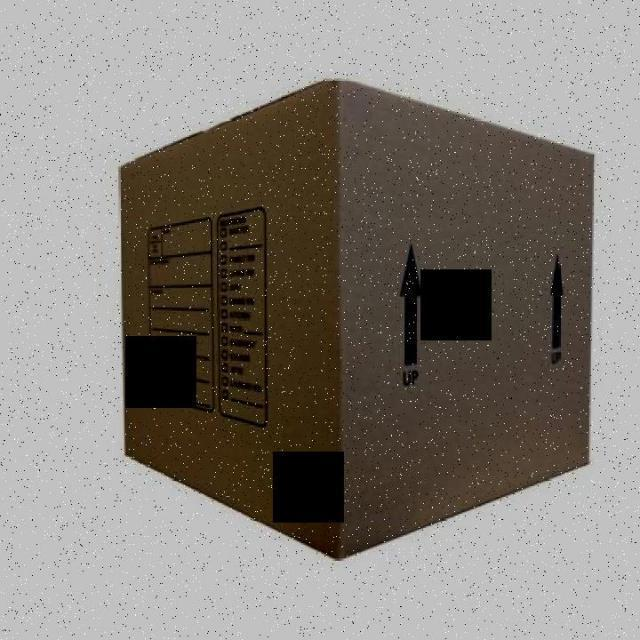box: (99, 74, 602, 574)
